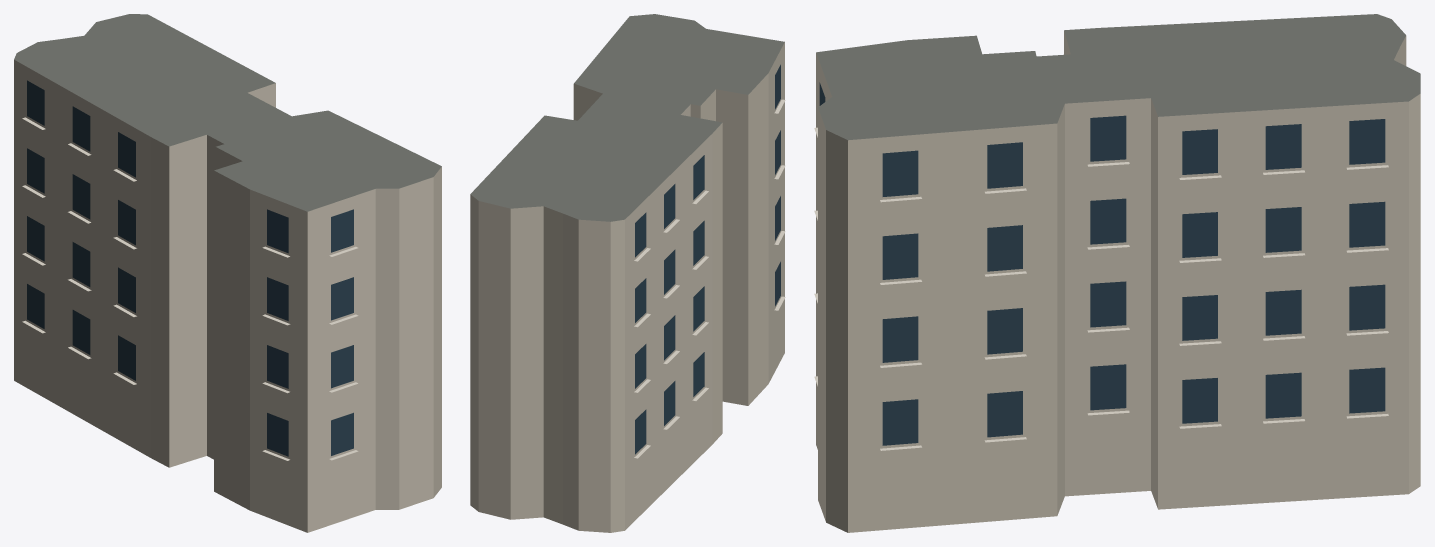
3 views of the same model, side by side, from view 1: azimuth 30°, elevation 25°; view 2: azimuth 150°, elevation 25°; view 3: azimuth 270°, elevation 25° (orthographic). The views are drawn at different scales.
Parts seen in each view (by area): view 1: Footprint 0, Inferred window bays, Window sills; view 2: Footprint 0, Inferred window bays, Window sills; view 3: Footprint 0, Inferred window bays, Window sills.
Boxes of the visible parts, x1,y1,x2,y2 form: Footprint 0: (14, 14, 441, 532); Inferred window bays: (27, 80, 353, 456); Window sills: (22, 117, 358, 460); Footprint 0: (470, 14, 784, 532); Inferred window bays: (635, 64, 780, 454); Window sills: (634, 99, 785, 458); Footprint 0: (816, 14, 1420, 532); Inferred window bays: (819, 82, 1385, 445); Window sills: (814, 127, 1388, 450).
Size of the model in its own units: 10.36 by 14.81 by 20.73.
